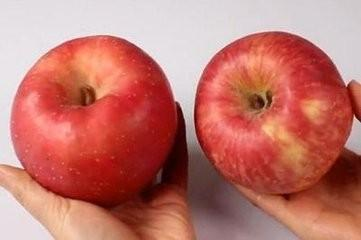apple: (9, 33, 180, 202), (192, 29, 355, 194)
